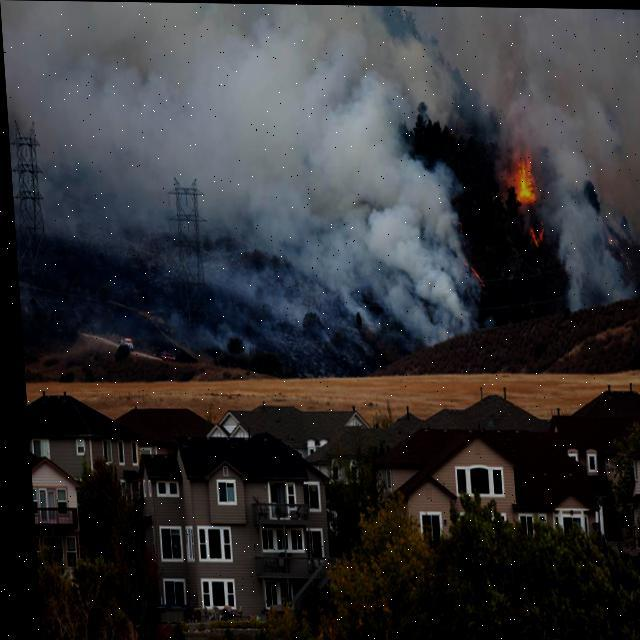Fire: (504, 151, 554, 253)
